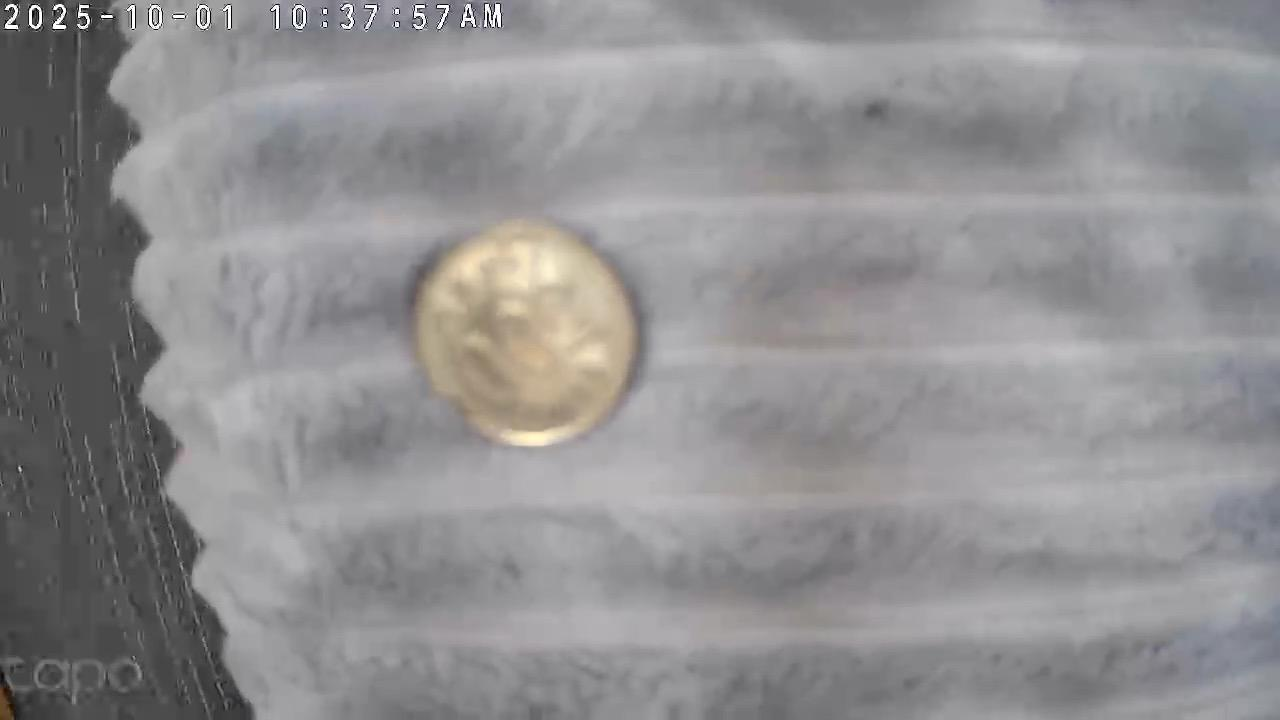coin: (397, 214, 656, 459)
